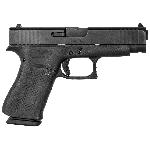Pistol: (3, 21, 150, 122)
